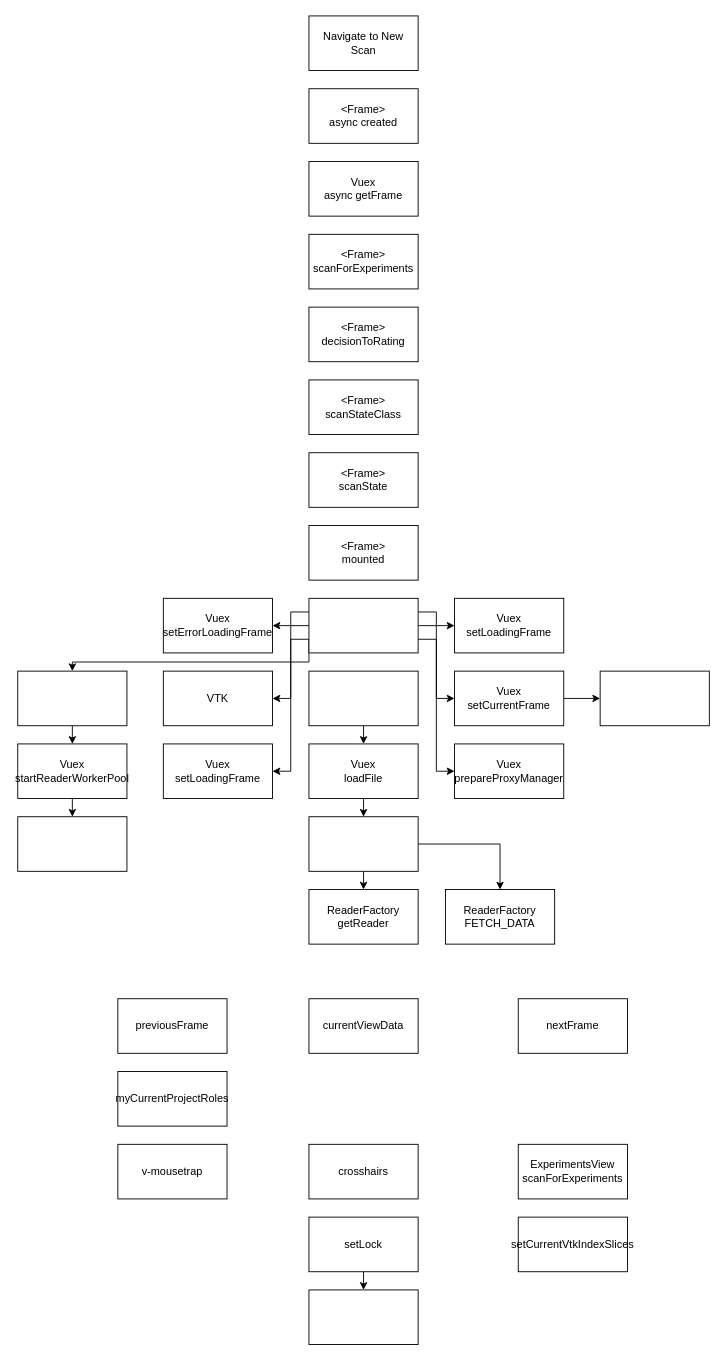
Image size: 725x1360. Some labels were removed from this diagram. Here are the shapes that lost their labels. From the top down, the centre of each, then its label:
(363,625): Vuex async swapToFrame
(72,698): Vuex checkLoadExperiment
(363,698): Vuex loadFileAndGetData
(654,698): Vuex setCurrentFrameId
(72,843): Vuex poolFunction
(363,843): ReaderFactory downloadFrame
(363,1317): lockExperiment
